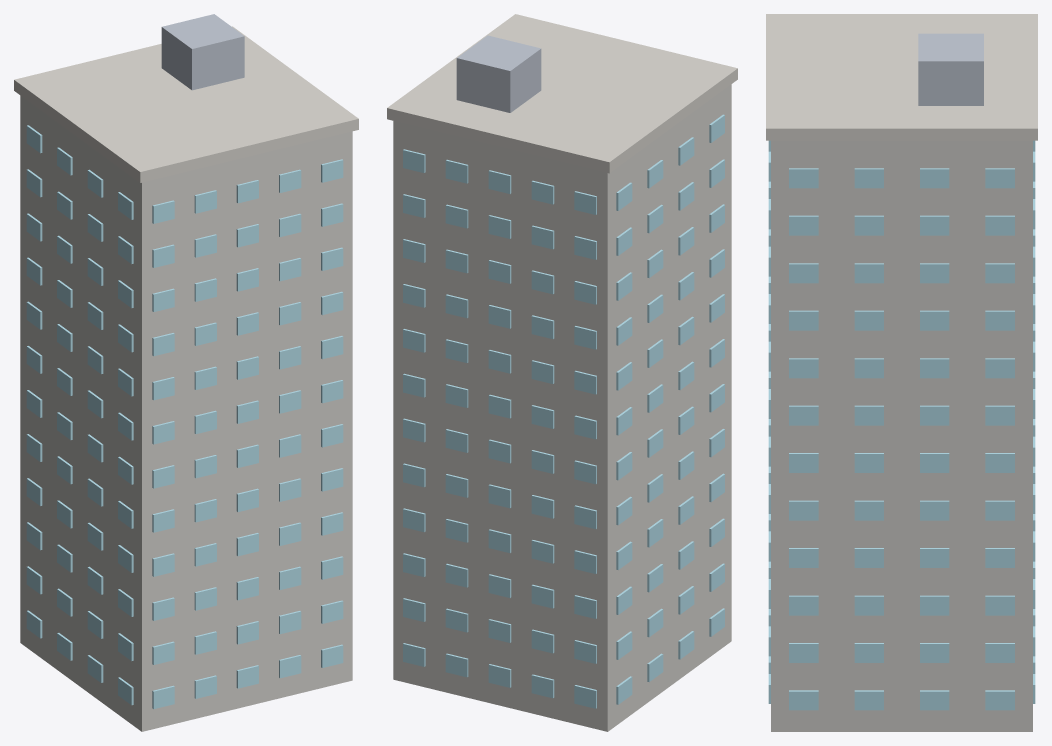
The model's file is tower_block.glb.
The picture shows the model from 3 angles, left to right: view 1: azimuth 30°, elevation 25°; view 2: azimuth 150°, elevation 25°; view 3: azimuth 270°, elevation 25°; orthographic projection. The views are drawn at different scales.
Parts seen in each view (by area): view 1: tower_block_concrete, tower_block_window, tower_block_roof_flat, tower_block_metal; view 2: tower_block_concrete, tower_block_window, tower_block_roof_flat, tower_block_metal; view 3: tower_block_concrete, tower_block_window, tower_block_roof_flat, tower_block_metal.
Part boxes in pixels (bbox=[...]): tower_block_concrete: bbox=[20, 95, 352, 731]; tower_block_window: bbox=[26, 125, 343, 709]; tower_block_roof_flat: bbox=[14, 26, 358, 182]; tower_block_metal: bbox=[161, 14, 244, 90]; tower_block_concrete: bbox=[393, 84, 731, 731]; tower_block_window: bbox=[403, 114, 724, 708]; tower_block_roof_flat: bbox=[387, 14, 737, 173]; tower_block_metal: bbox=[456, 35, 541, 112]; tower_block_concrete: bbox=[771, 140, 1032, 731]; tower_block_window: bbox=[768, 140, 1035, 710]; tower_block_roof_flat: bbox=[766, 14, 1037, 140]; tower_block_metal: bbox=[918, 33, 983, 105].
Bounding box in the file's own units: 16.6 × 43.8 × 16.6.
